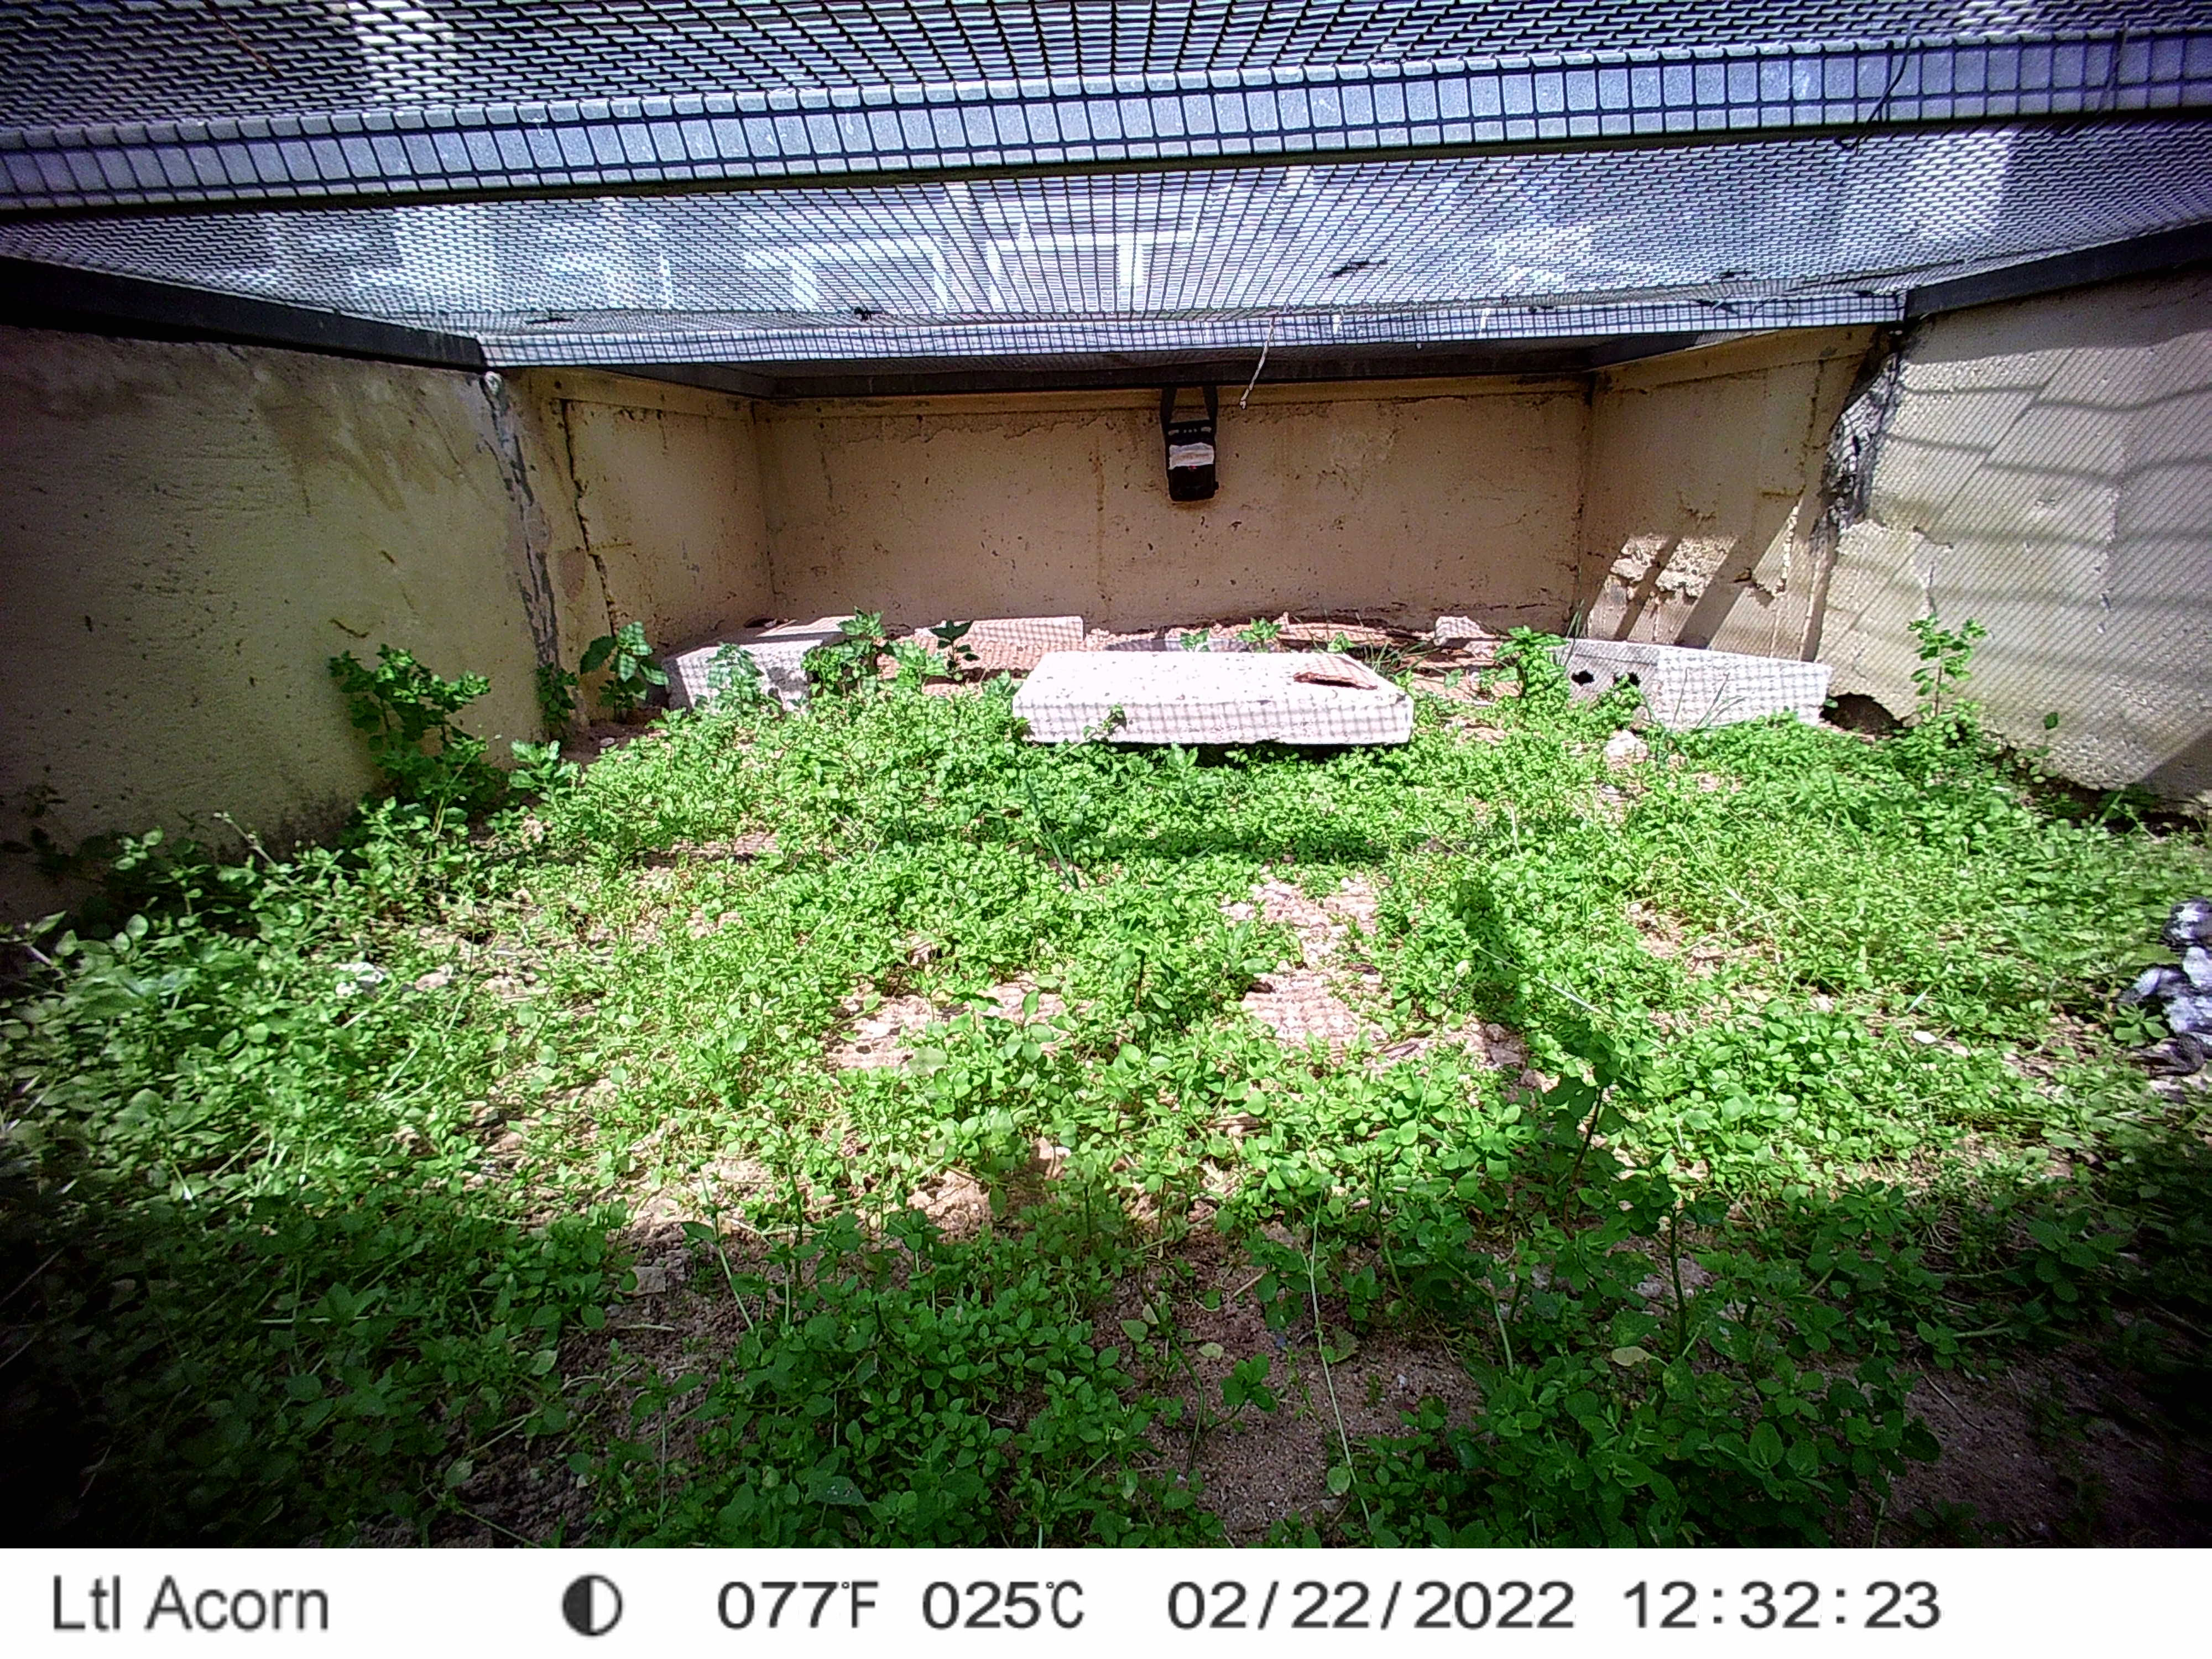lizard: (2118, 897, 2212, 1063)
